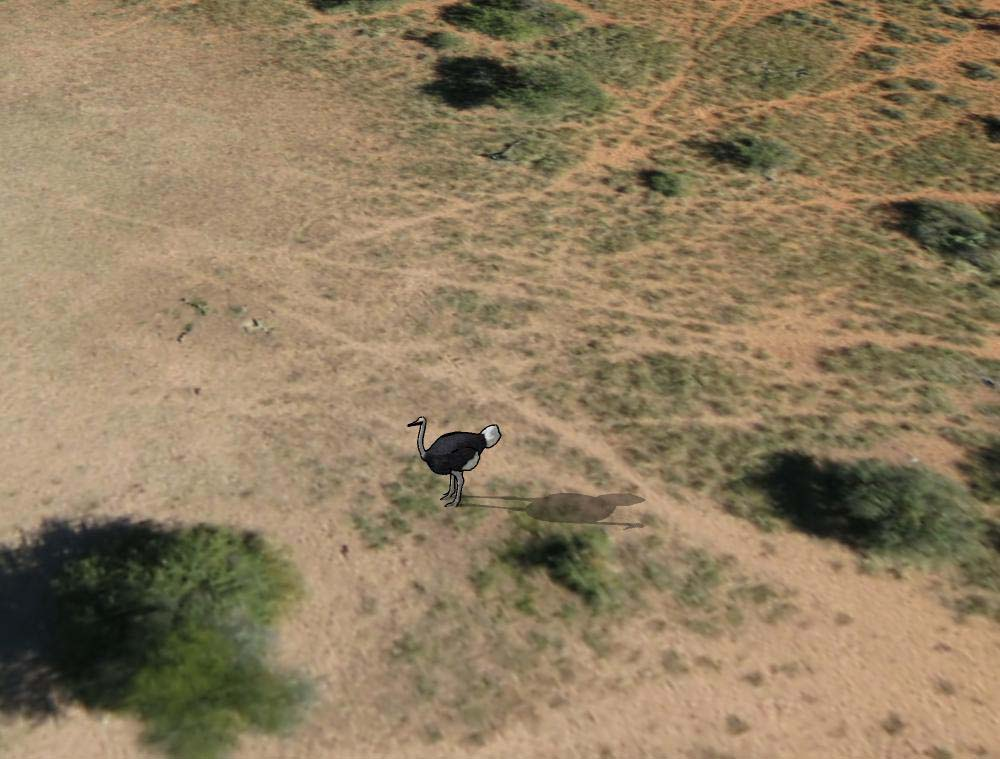springbok: (407, 406, 504, 511)
